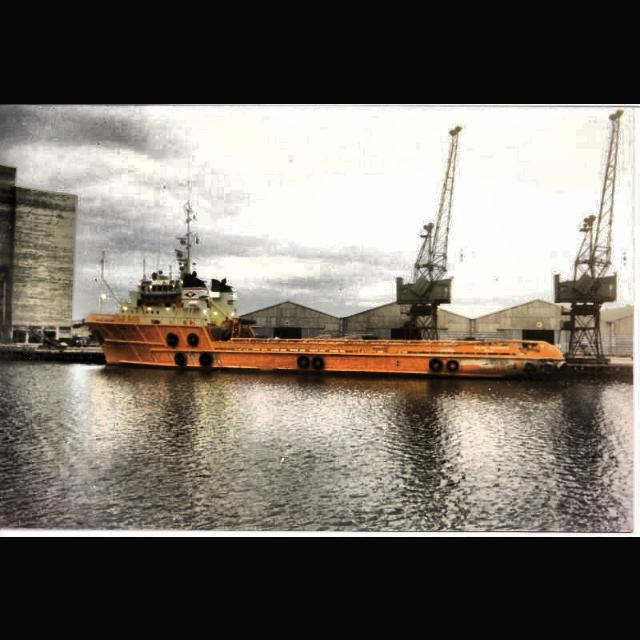anchor_handling_tug_supply: (85, 263, 570, 379)
